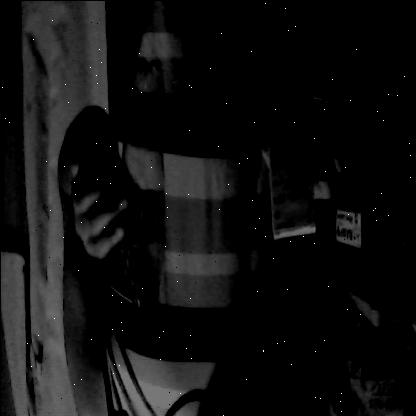Plastic Bottle: (113, 48, 170, 358)
